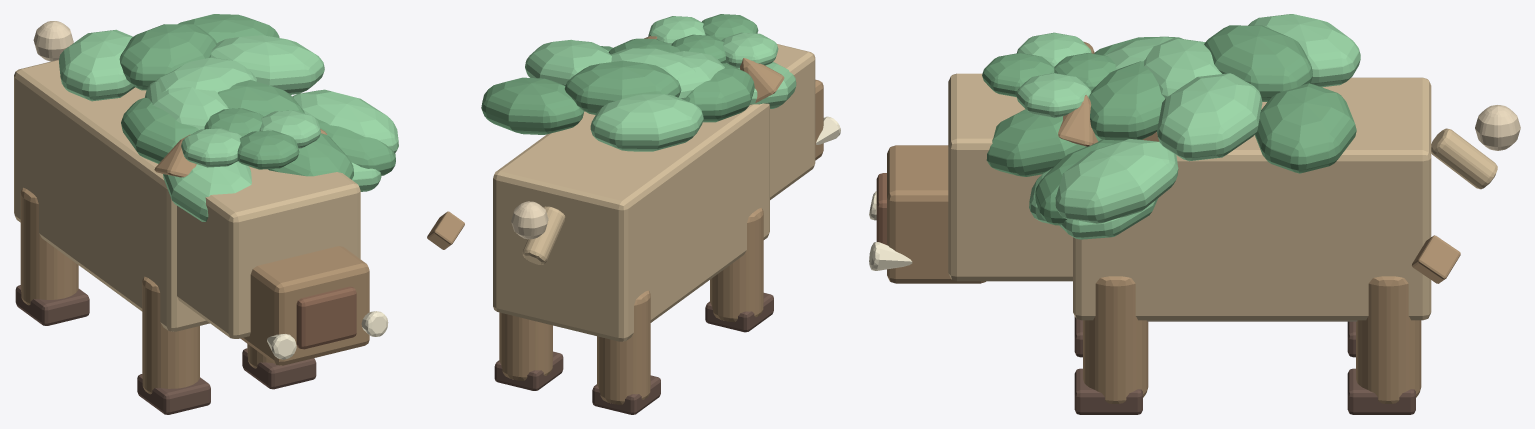
The model's file is burrow_boar.glb.
3 renders of one model, left to right at view 1: azimuth 30°, elevation 25°; view 2: azimuth 150°, elevation 25°; view 3: azimuth 270°, elevation 25°, orthographic. The views are drawn at different scales.
Visible parts, largest first — view 1: Body, Head, Snout, Leg_FL, Mane4, Mane8, Mane7, Leg_BL, NosePad, Mane2, Mane0, Mane11 (+18 smaller); view 2: Body, Head, Mane8, Mane5, Leg_BL, Mane7, Leg_FL, Leg_BR, Mane11, Mane4, HeadLeaf2, Mane6 (+15 smaller); view 3: Body, Head, Snout, Mane2, Mane4, Mane5, Leg_BR, Leg_FR, Mane7, Mane3, Mane1, Mane8 (+16 smaller).
Part boxes in pixels (x1,y1,x2,y2): Body: (14, 59, 209, 331); Head: (177, 166, 360, 338); Snout: (240, 246, 369, 365); Leg_FL: (142, 276, 199, 394); Mane4: (211, 35, 324, 94); Mane8: (59, 29, 134, 101); Mane7: (119, 24, 216, 90); Leg_BL: (20, 187, 78, 305); NosePad: (296, 286, 356, 349); Mane2: (292, 89, 398, 153); Mane0: (163, 161, 251, 221); Mane11: (121, 98, 198, 163); Body: (493, 103, 769, 341); Head: (770, 44, 815, 199); Mane8: (590, 94, 703, 151); Mane5: (481, 77, 584, 134); Leg_BL: (597, 290, 650, 404); Mane7: (564, 60, 681, 114); Leg_FL: (710, 208, 763, 322); Leg_BR: (499, 312, 552, 380); Mane11: (684, 63, 754, 122); Mane4: (525, 39, 611, 85); HeadLeaf2: (721, 32, 778, 68); Mane6: (611, 48, 695, 79); Body: (1073, 77, 1431, 320); Head: (948, 73, 1072, 281); Snout: (887, 145, 985, 283); Mane2: (1055, 139, 1178, 223); Mane4: (1157, 73, 1262, 161); Mane5: (1254, 83, 1356, 173); Leg_BR: (1356, 276, 1421, 403); Leg_FR: (1083, 276, 1148, 403); Mane7: (1204, 25, 1312, 101); Mane3: (1089, 61, 1164, 140); Mane1: (986, 109, 1103, 176); Mane8: (1248, 14, 1360, 87).
Size of the model in its own units: 0.9402 by 1.11 by 1.91.
